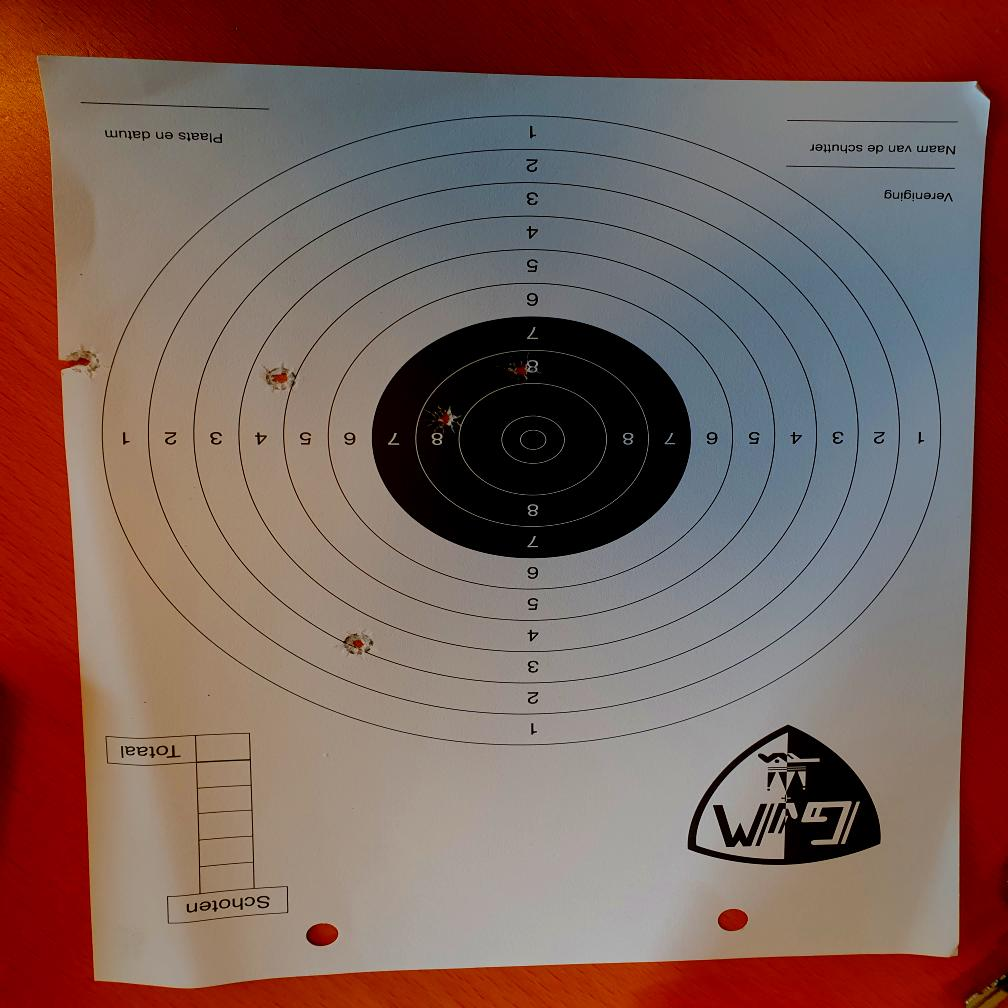0: (58, 342, 108, 382)
3: (334, 627, 378, 659)
5: (259, 364, 301, 396)
8: (422, 403, 465, 436), (500, 352, 539, 384)
Target: (100, 112, 943, 742)
black_contour: (370, 316, 692, 560)
